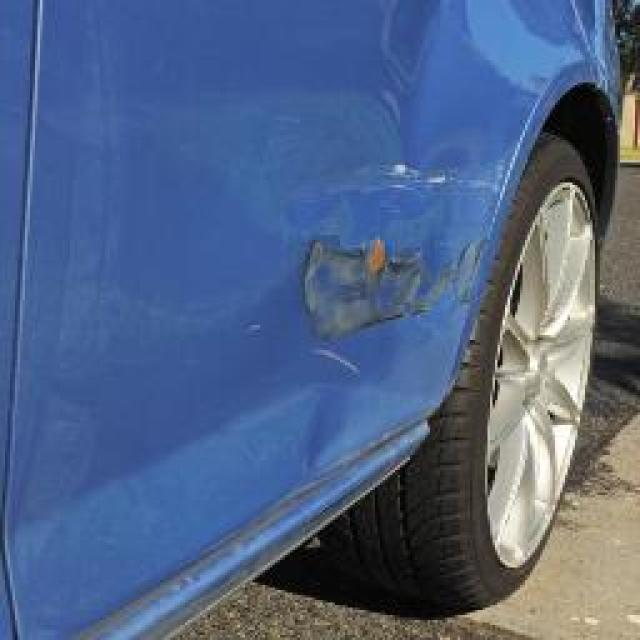Door: (262, 108, 502, 408)
